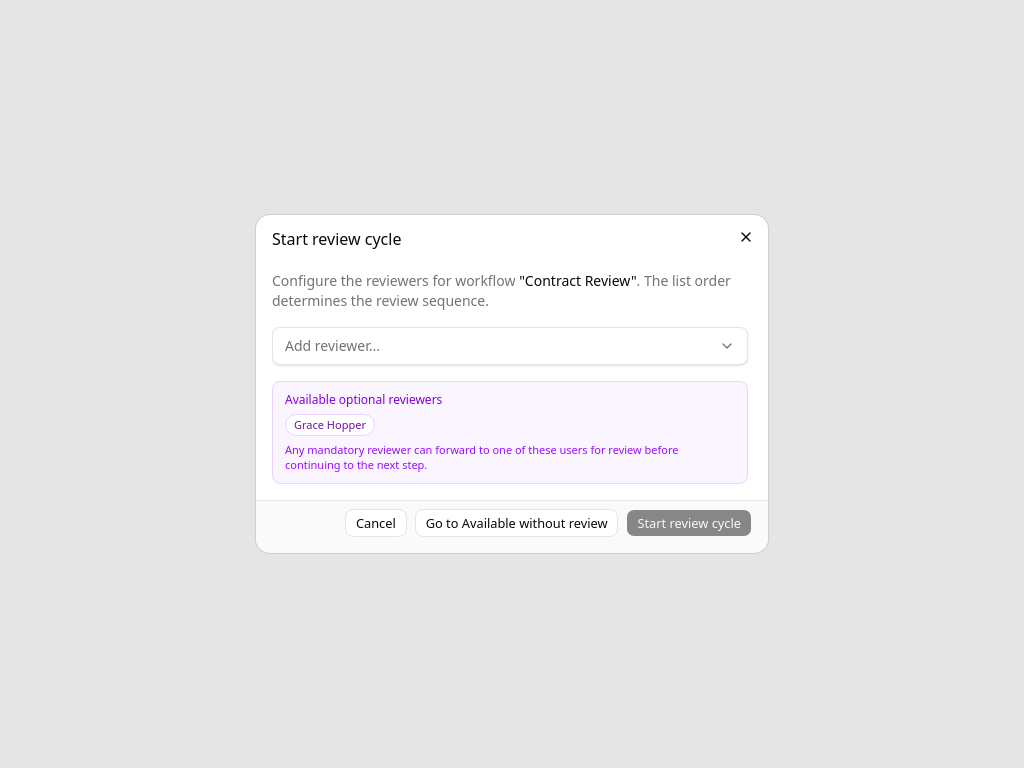
Scenario: StartReviewCycleDialog › also offers optional reviewers in the "add reviewer" dropdown
Step 1. Click the button "Add reviewer..." → point(332, 345), box [272,327,748,365]
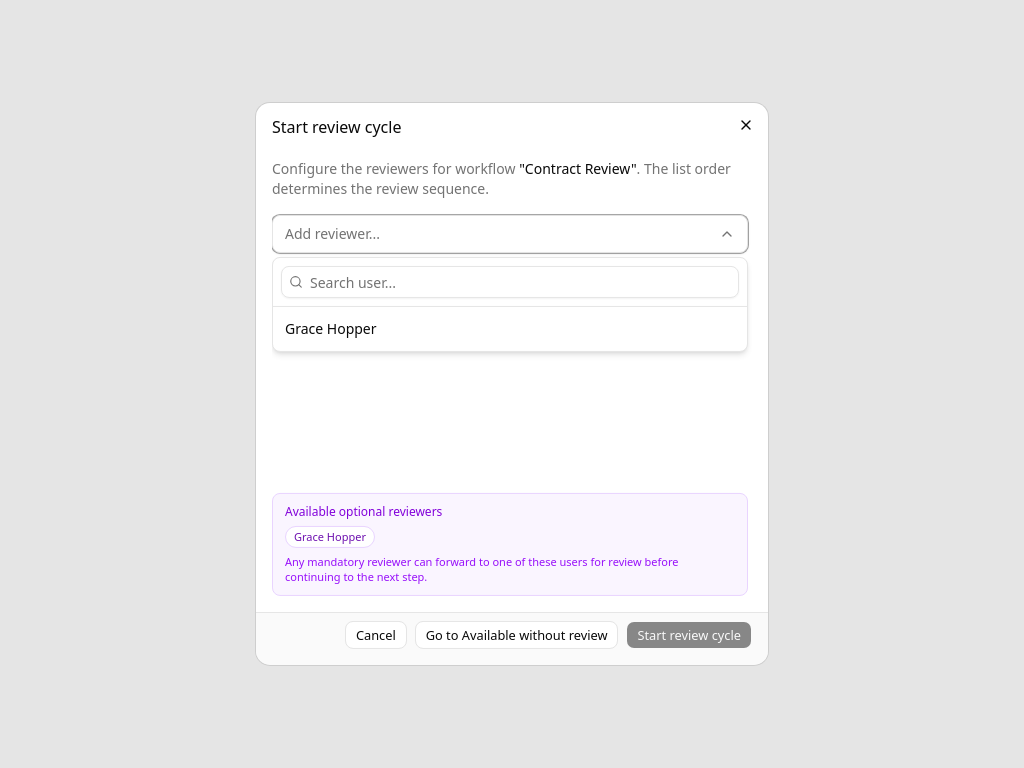
Expected: the option "Grace Hopper" is shown, [273,311,747,347]
